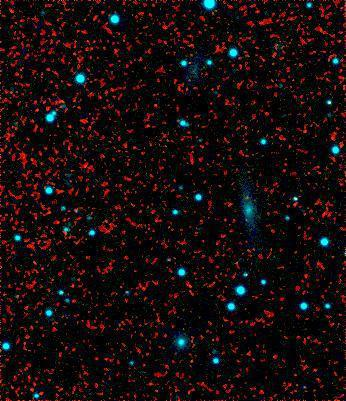star: (233, 205, 263, 235)
